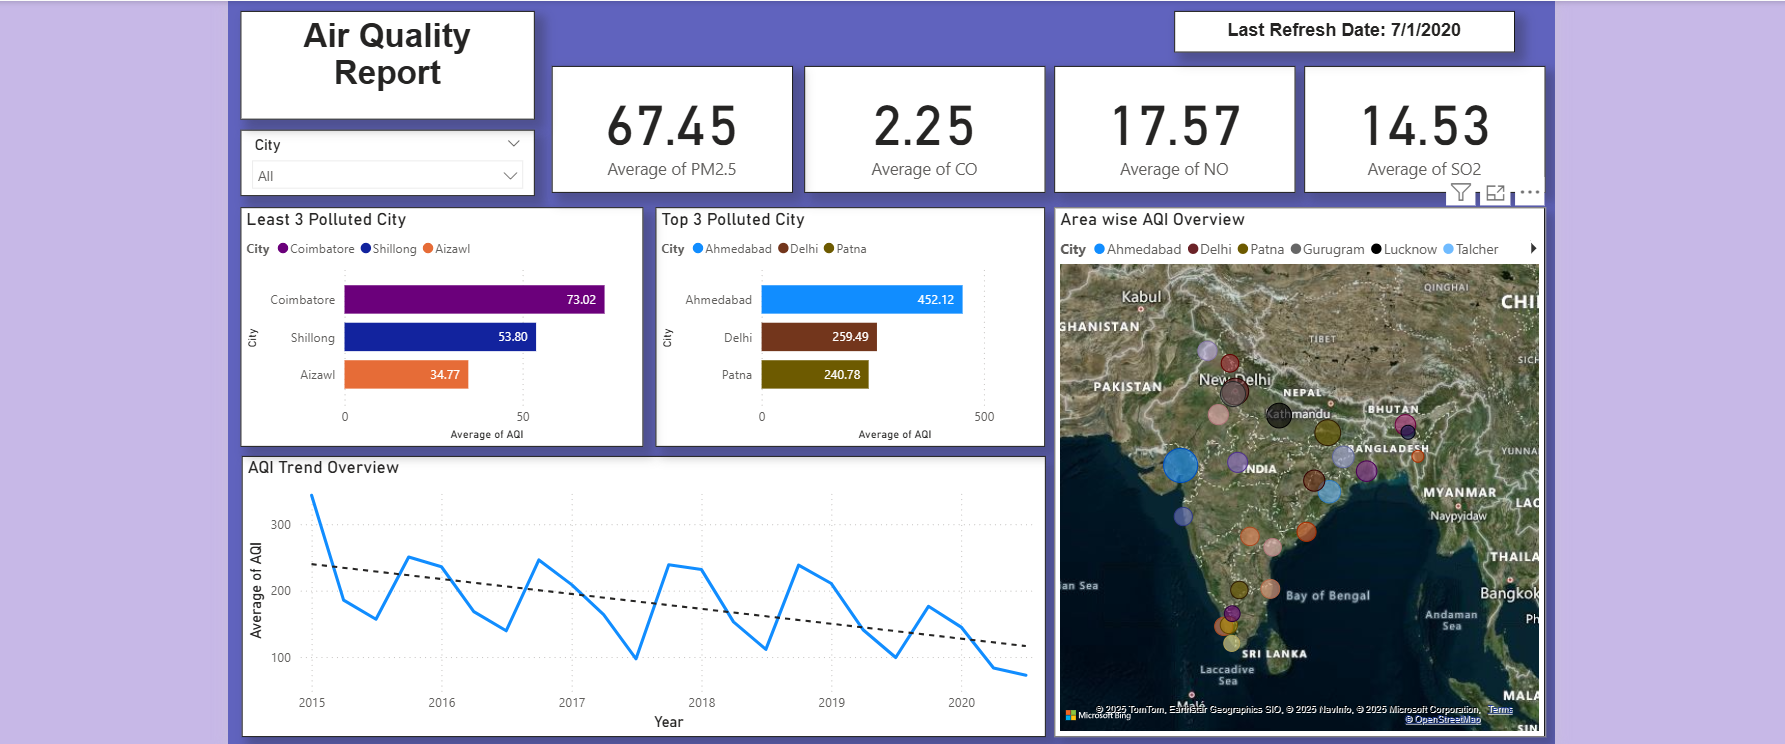

Layout of this report page (visuals, bound fields, positions):
{"tool":"powerbi","page":{"name":"Page 1","canvas":[1280,720],"ordinal":0},"visuals":[{"type":"lineChart","title":"AQI Trend Overview","fields":{"Category":["city_day (2).Date.Variation.Date Hierarchy.Year","city_day (2).Date.Variation.Date Hierarchy.Quarter","city_day (2).Date.Variation.Date Hierarchy.Month","city_day (2).Date.Variation.Date Hierarchy.Day"],"Y":["Avg(city_day (2).AQI)"]},"box":[13.8,438.8,776.2,271.2],"z":0},{"type":"slicer","fields":{"Values":["city_day (2).City"]},"box":[12.5,123.8,283.8,63.8],"z":1000},{"type":"barChart","title":"Top 3 Polluted City","fields":{"Category":["city_day (2).City"],"Y":["Avg(city_day (2).AQI)"],"Series":["city_day (2).City"]},"box":[412.5,198.8,376.2,231.2],"z":2000},{"type":"barChart","title":"Least 3 Polluted City","fields":{"Category":["city_day (2).City"],"Y":["Avg(city_day (2).AQI)"],"Series":["city_day (2).City"]},"box":[12.5,198.8,388.8,231.2],"z":3000},{"type":"card","fields":{"Values":["Avg(city_day (2).CO)"]},"box":[556.2,62.5,232.5,122.5],"z":4000},{"type":"card","fields":{"Values":["Avg(city_day (2).NO)"]},"box":[797.5,62.5,232.5,122.5],"z":5000},{"type":"card","fields":{"Values":["Avg(city_day (2).SO2)"]},"box":[1038.8,62.5,232.5,122.5],"z":6000},{"type":"card","fields":{"Values":["Avg(city_day (2).PM2.5)"]},"box":[312.5,62.5,232.5,122.5],"z":7000},{"type":"map","title":"Area wise AQI Overview","fields":{"Category":["city_day (2).City"],"Size":["Avg(city_day (2).AQI)"],"Series":["city_day (2).City"]},"box":[797.5,198.8,473.8,511.2],"z":8000},{"type":"textbox","box":[12.5,10,283.8,105],"z":9000},{"type":"card","fields":{"Values":["city_day (2).MAX Date"]},"box":[913.8,10,328.8,40],"z":10000}]}

Visuals, with their boxes in screenshot pixels (x1, y1, x2, y2):
"AQI Trend Overview" lineChart: bbox=[256, 447, 1047, 723]
slicer - city_day (2).City: bbox=[254, 126, 544, 191]
"Top 3 Polluted City" barChart: bbox=[662, 203, 1045, 438]
"Least 3 Polluted City" barChart: bbox=[254, 203, 651, 438]
card - Avg(city_day (2).CO): bbox=[808, 64, 1045, 188]
card - Avg(city_day (2).NO): bbox=[1054, 64, 1291, 188]
card - Avg(city_day (2).SO2): bbox=[1300, 64, 1537, 188]
card - Avg(city_day (2).PM2.5): bbox=[560, 64, 797, 188]
"Area wise AQI Overview" map: bbox=[1054, 203, 1537, 723]
textbox: bbox=[254, 10, 544, 117]
card - city_day (2).MAX Date: bbox=[1173, 10, 1508, 51]
